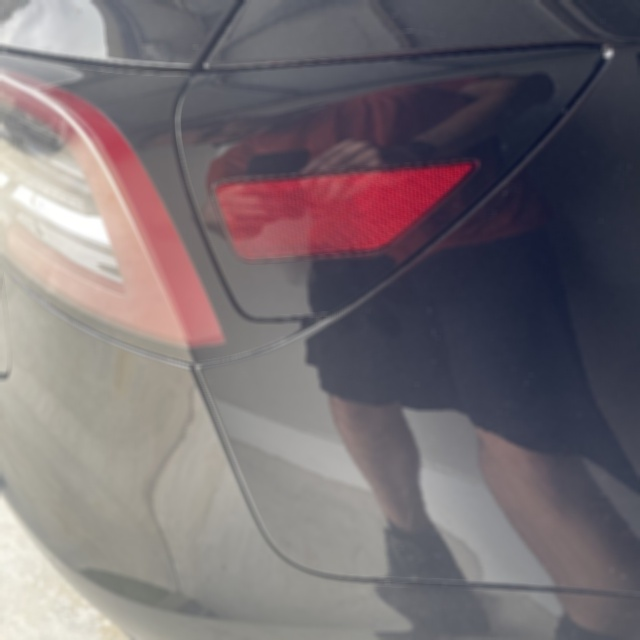reflector: (210, 157, 482, 263)
